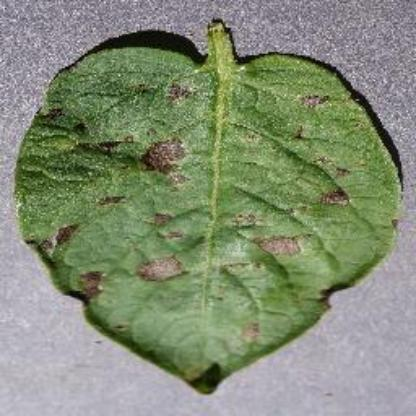Early-Blight: (14, 17, 404, 395)
